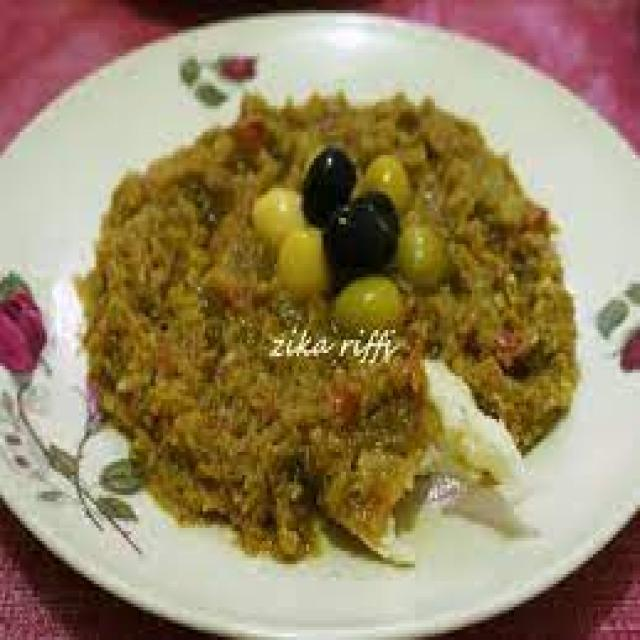Salade mechweya: (73, 86, 572, 563)
